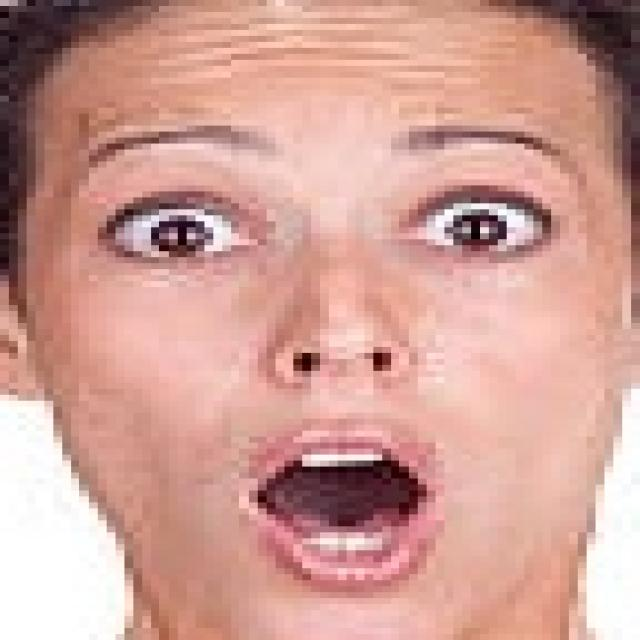Anxiety: (9, 5, 633, 634)
